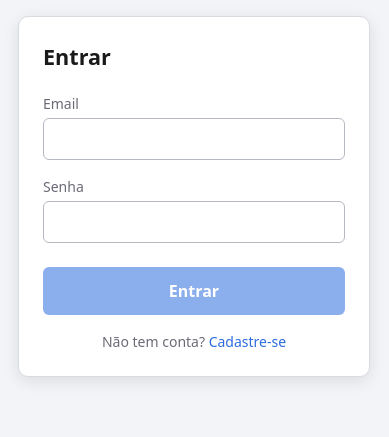
it: LoginView › shows a friendly message on network failure (no server error body)
Type "alice@example.com" into the field with test id "email". click: [194, 139]
box: [43,118,345,160]
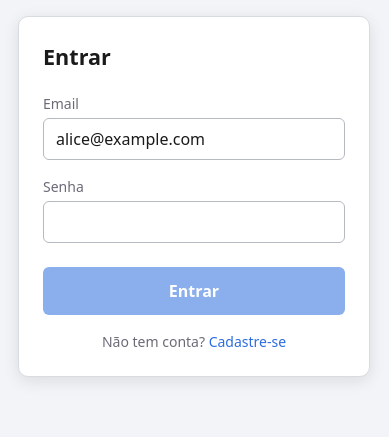
Type "Password123" into the password field with test id "password". click: [194, 222]
box: [43,201,345,243]
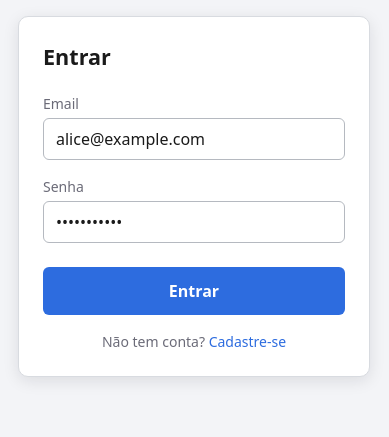
Submit the form, box [43,93,345,352]
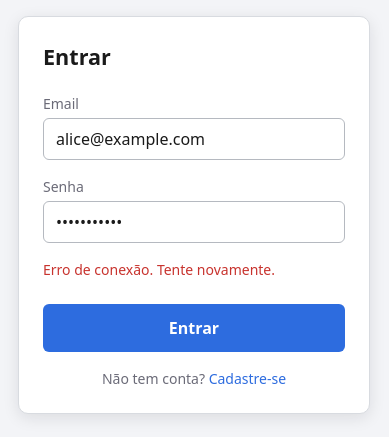
Expected: the message with test id "form-error" shows "Erro de conexão", [43,260,275,279]
